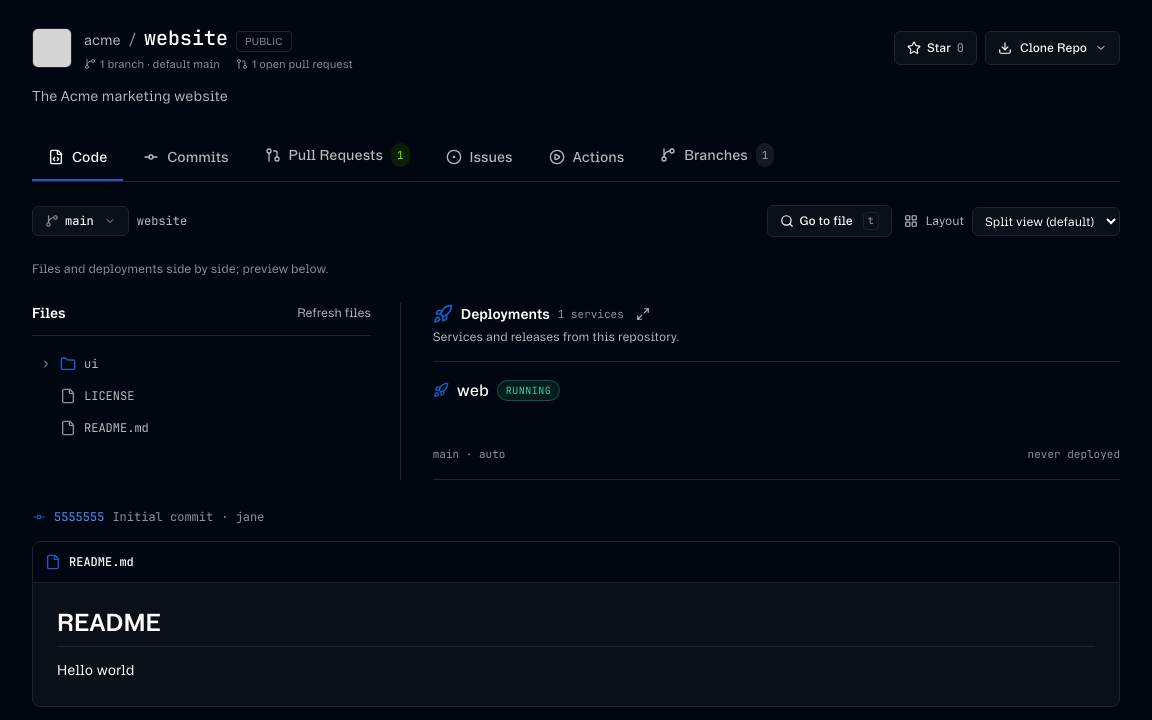
Scenario: RepoView — Code tree › expands folders in place and can collapse them
Click the list item "ui".
click(46, 364)  # box [32,348,343,380]
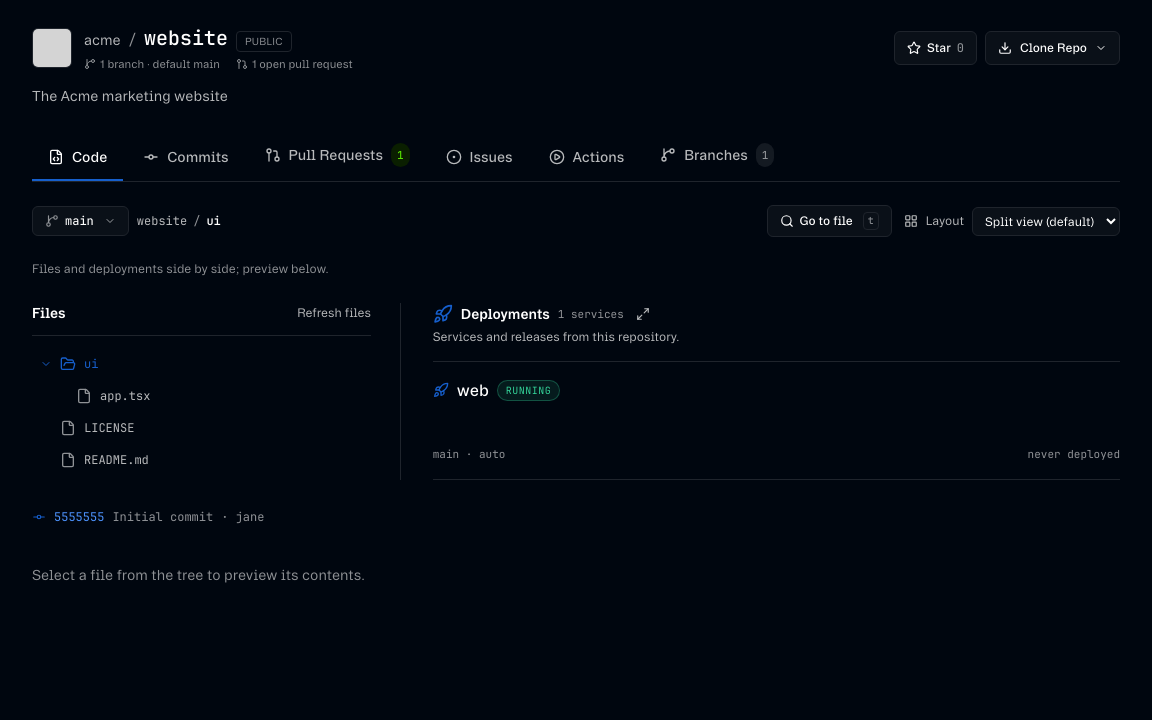
Expected: the list item "LICENSE" is shown, [32,412,343,444]
Now the list item "app.tsx" is shown, box [32,380,343,412]
Now the list item "ui" is expanded
Click the list item "ui".
click(46, 364)  # box [32,348,343,380]
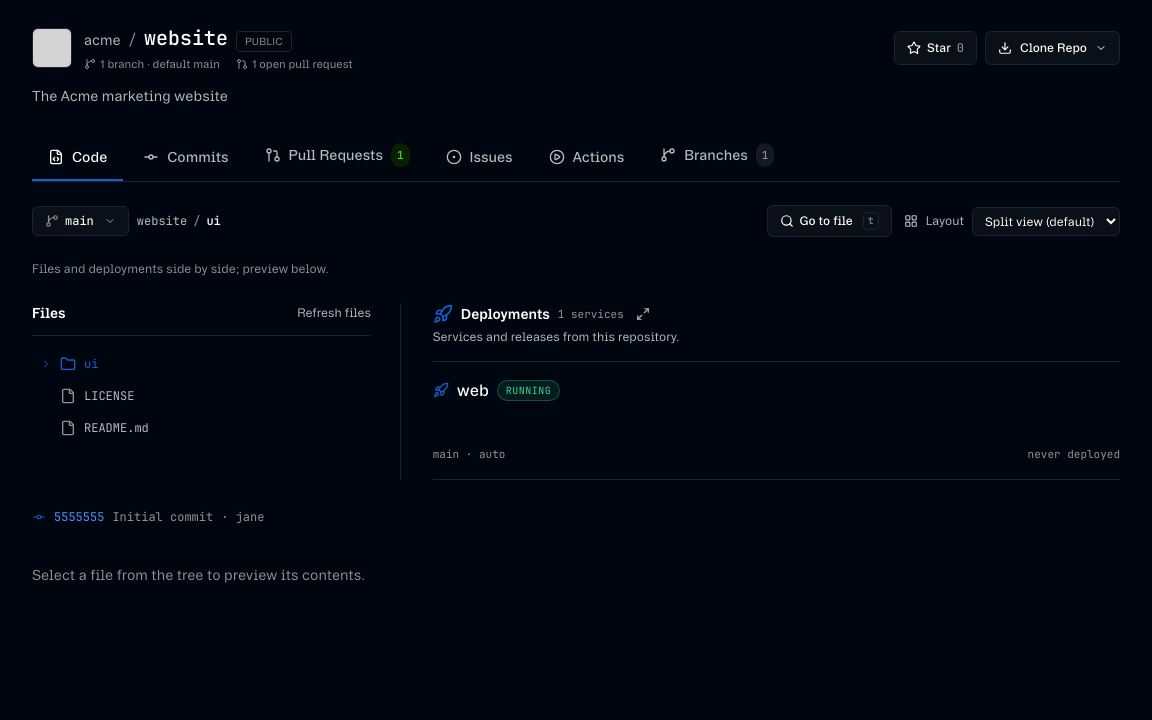
Now the list item "app.tsx" is gone
